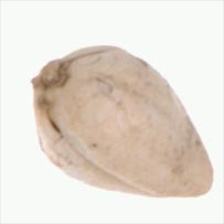L1: (28, 59, 71, 98)
L2: (30, 45, 213, 197)
